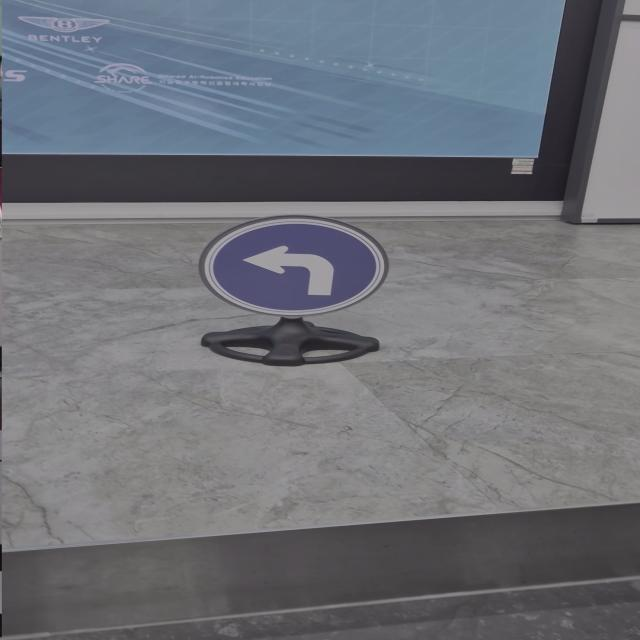left_direction: (195, 206, 388, 326)
